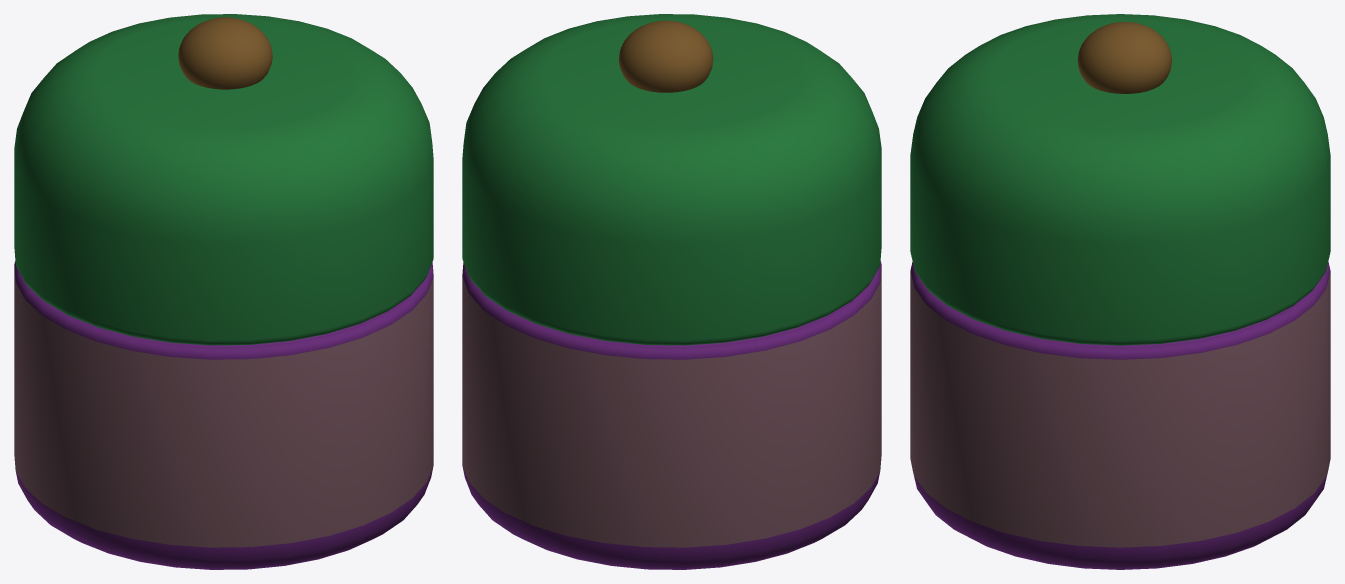
File: Container_Style_16.fbx
3 views of the same model, side by side, from view 1: azimuth 30°, elevation 25°; view 2: azimuth 150°, elevation 25°; view 3: azimuth 270°, elevation 25° (orthographic).
Parts seen in each view (by area): view 1: SetA_Container_Style_16; view 2: SetA_Container_Style_16; view 3: SetA_Container_Style_16.
Boxes of the visible parts, left/top/right/bottom form: SetA_Container_Style_16: left=14, top=14, right=433, bottom=569; SetA_Container_Style_16: left=462, top=14, right=881, bottom=569; SetA_Container_Style_16: left=910, top=14, right=1330, bottom=569.
Size of the model in its own units: 0.1431 by 0.1755 by 0.1431.
